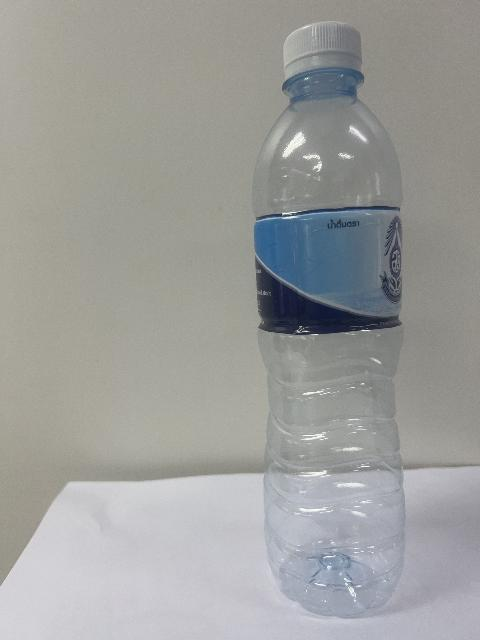bottle: (254, 23, 404, 616)
